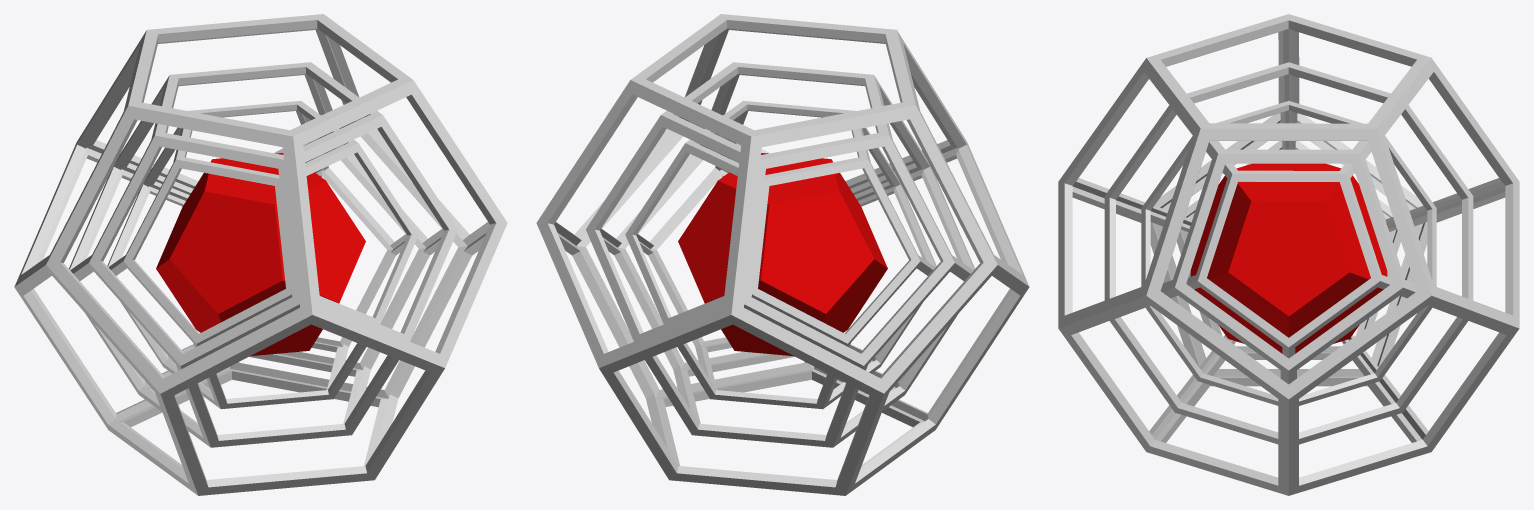
3 renders of one model, left to right at view 1: azimuth 30°, elevation 25°; view 2: azimuth 150°, elevation 25°; view 3: azimuth 270°, elevation 25°, orthographic. The views are drawn at different scales.
Parts seen in each view (by area): view 1: Icosphere, Icosphere.002; view 2: Icosphere, Icosphere.002; view 3: Icosphere, Icosphere.002.
Boxes of the visible parts, box(x1,y1,x2,y2) form: Icosphere: box(14, 14, 507, 495); Icosphere.002: box(156, 153, 365, 356); Icosphere: box(536, 14, 1029, 495); Icosphere.002: box(678, 153, 887, 356); Icosphere: box(1058, 14, 1519, 495); Icosphere.002: box(1190, 163, 1387, 353).
Bounding box in the file's own units: 1.56 × 1.26 × 1.48.
